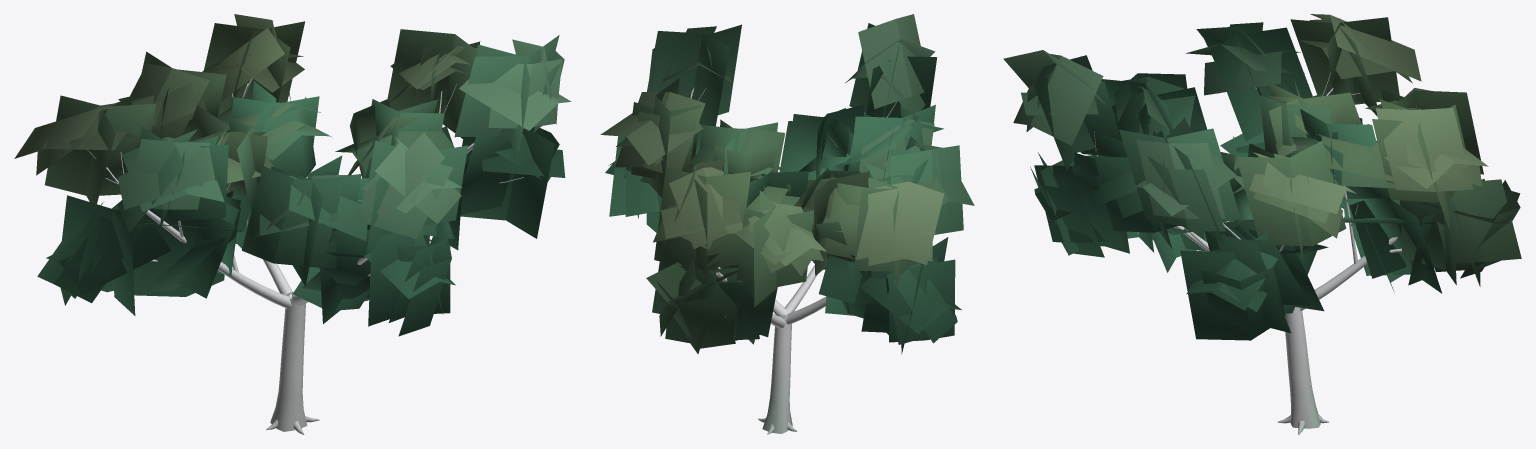
File: island_tree_02_b.glb
3 views of the same model, side by side, from view 1: azimuth 30°, elevation 25°; view 2: azimuth 150°, elevation 25°; view 3: azimuth 270°, elevation 25° (orthographic). The views are drawn at different scales.
Parts seen in each view (by area): view 1: isl_island_tree_02_b; view 2: isl_island_tree_02_b; view 3: isl_island_tree_02_b.
Part boxes in pixels (x1=…): isl_island_tree_02_b: x1=14, y1=14, x2=571, y2=434; isl_island_tree_02_b: x1=600, y1=14, x2=974, y2=434; isl_island_tree_02_b: x1=1003, y1=14, x2=1521, y2=434.
Size of the model in its own units: 7.64 by 6.19 by 7.83.
